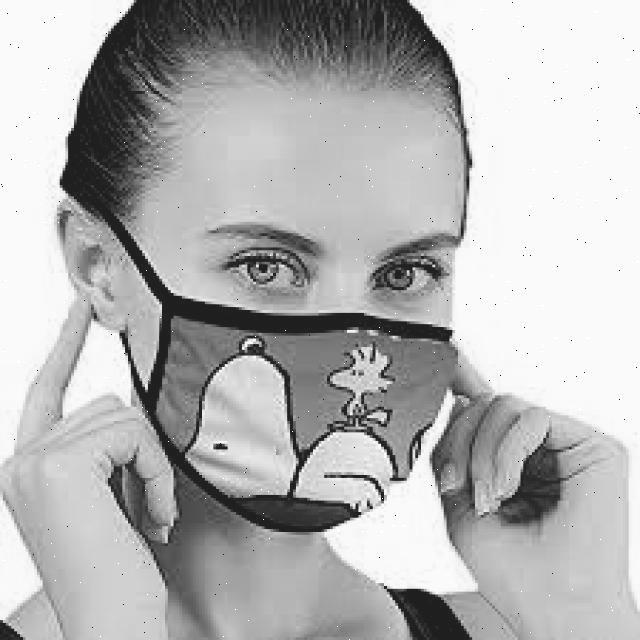fake: (141, 290, 456, 534)
real: (149, 75, 468, 534)
